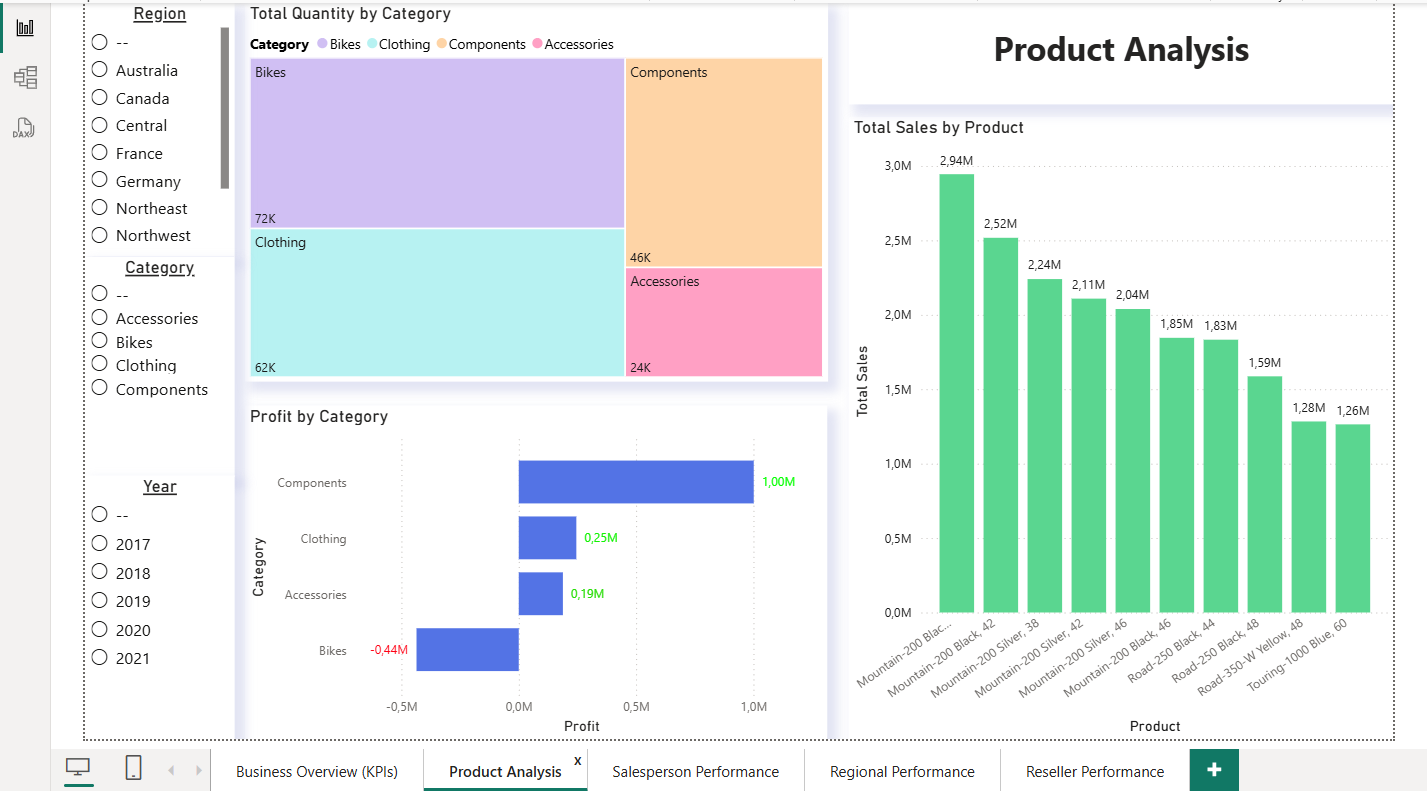

Layout of this report page (visuals, bound fields, positions):
{"tool":"powerbi","page":{"name":"Product Analysis","canvas":[1280,720],"ordinal":1},"visuals":[{"type":"treemap","fields":{"Values":["FactSales.Total Quantity"],"Group":["DimProduct.Category"]},"box":[156.7,0,570.4,370.7],"z":0},{"type":"barChart","fields":{"Y":["FactSales.Profit"],"Category":["DimProduct.Category"]},"box":[156.5,393.8,569.8,326.5],"z":1000},{"type":"columnChart","fields":{"Y":["FactSales.Total Sales"],"Category":["DimProduct.Product"]},"box":[747.2,111.3,533.2,609],"z":2000},{"type":"listSlicer","fields":{"Values":["DimRegion.Region"]},"box":[0,0,146.5,247.7],"z":3000},{"type":"listSlicer","fields":{"Values":["DimProduct.Category"]},"box":[0,247.7,146.5,215.1],"z":4000},{"type":"listSlicer","fields":{"Values":["DimDate.Year"]},"box":[0,462.2,146.7,258],"z":5000},{"type":"textbox","box":[747.2,0,533.2,99],"z":6000}]}

Visuals, with their boxes on the page's 1280x720 design canvas (x1, y1, x2, y2). These are canvas units, not pixel positions in the 1427x791 screenshot, which may show the page scaled, cropped or inside an application window:
treemap - FactSales.Total Quantity x DimProduct.Category: BBox(157, 0, 727, 371)
barChart - FactSales.Profit x DimProduct.Category: BBox(156, 394, 726, 720)
columnChart - FactSales.Total Sales x DimProduct.Product: BBox(747, 111, 1280, 720)
listSlicer - DimRegion.Region: BBox(0, 0, 146, 248)
listSlicer - DimProduct.Category: BBox(0, 248, 146, 463)
listSlicer - DimDate.Year: BBox(0, 462, 147, 720)
textbox: BBox(747, 0, 1280, 99)
